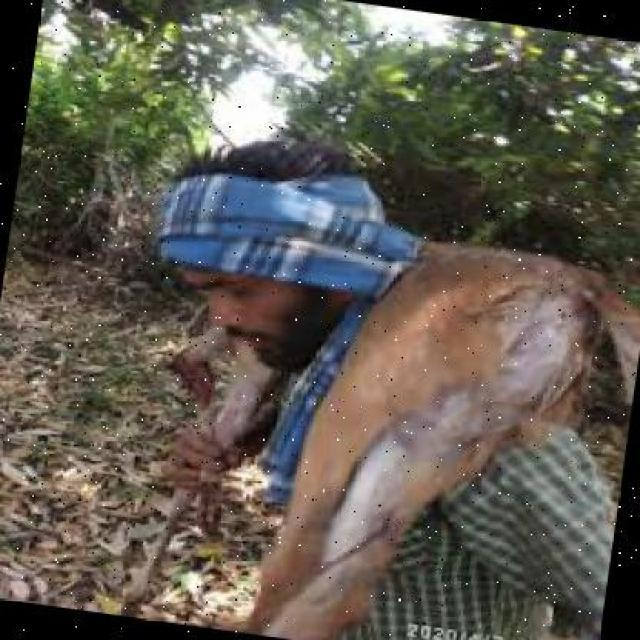Hunter: (88, 122, 608, 588)
